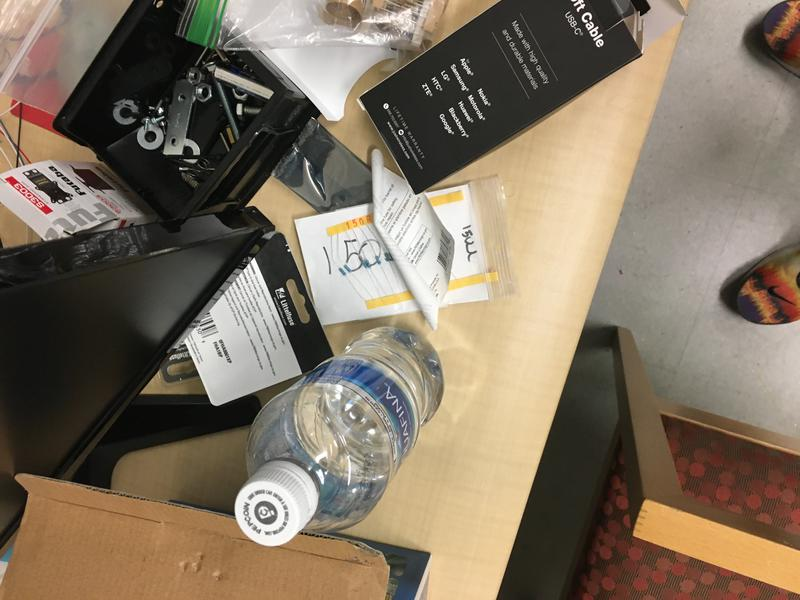bottle: (231, 325, 446, 549)
